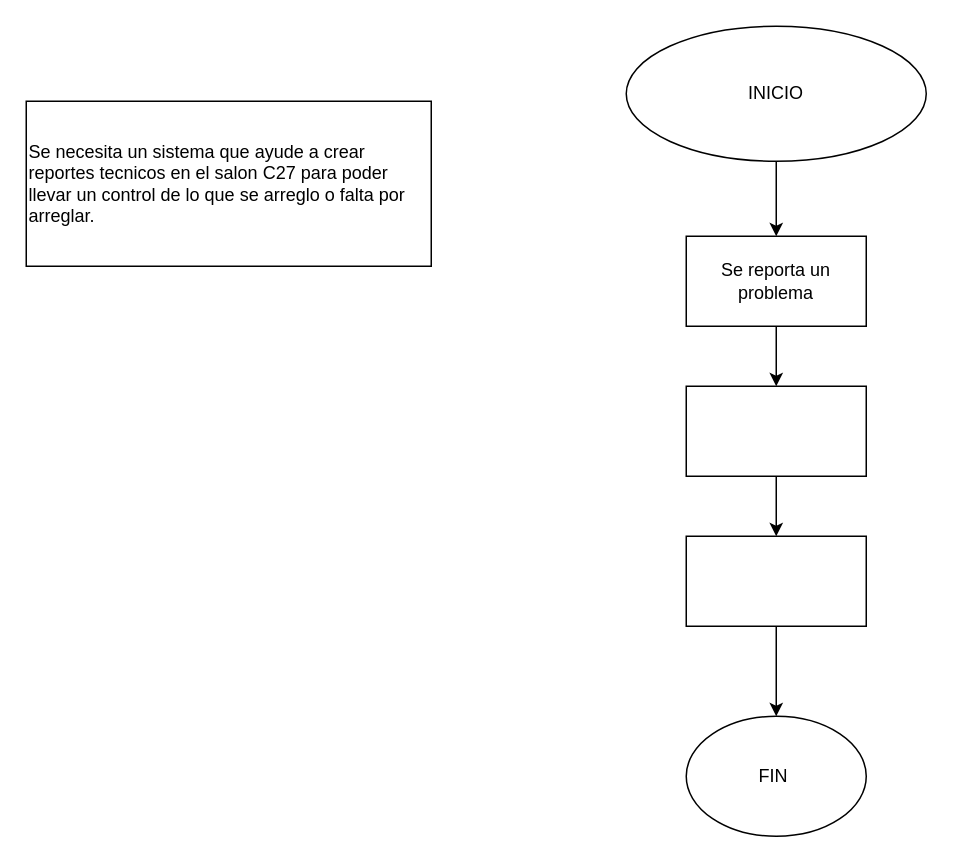
Some shapes in this 953 by 863 pixel diagram are drawn without their labels. The shapes that lost their labels are listed below. From the top down, each one's centre as x and y in pixels, then its label:
point 775,430: Se registra el problema
point 775,580: Se genera un reporte
